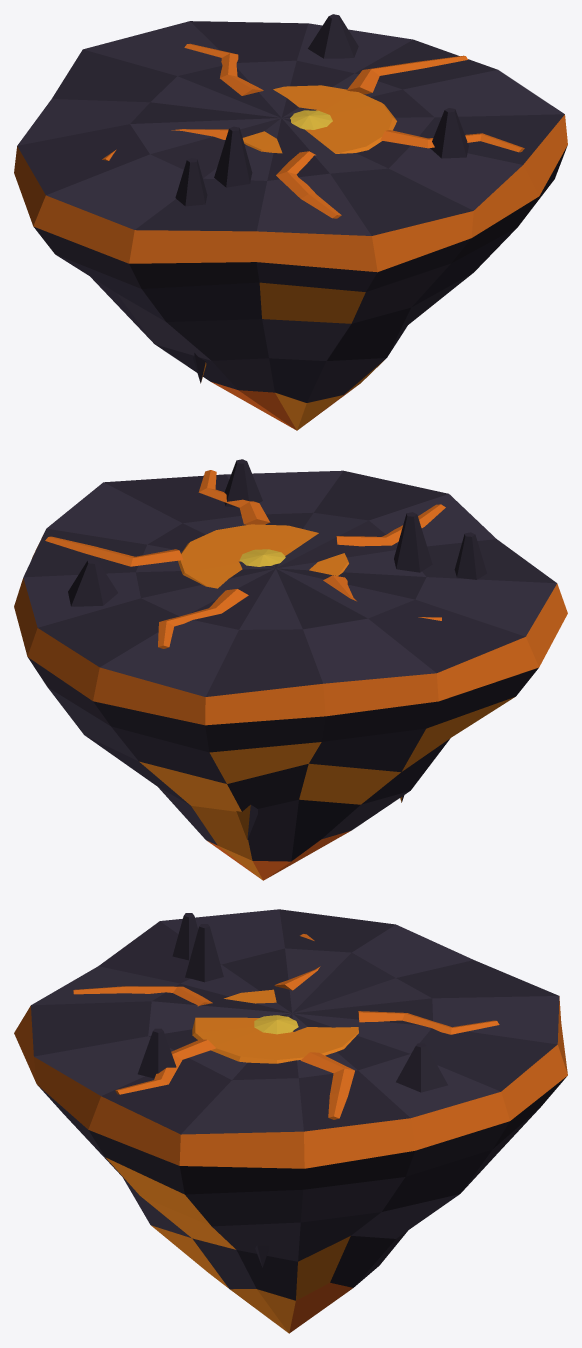
Rendered from lava_island.glb.
The picture shows the model from 3 angles, top to bottom: view 1: azimuth 30°, elevation 25°; view 2: azimuth 150°, elevation 25°; view 3: azimuth 270°, elevation 25°; orthographic projection.
Visible parts, largest first — view 1: Island, Lava; view 2: Island, Lava; view 3: Island, Lava.
Boxes of the visible parts, x1,y1,x2,y2 form: Island: (14,21,567,430); Lava: (102,14,524,218); Island: (14,470,567,880); Lava: (45,459,486,648); Island: (14,909,567,1333); Lava: (73,913,499,1119).
Size of the model in its own units: 14.83 by 10.36 by 14.57.
